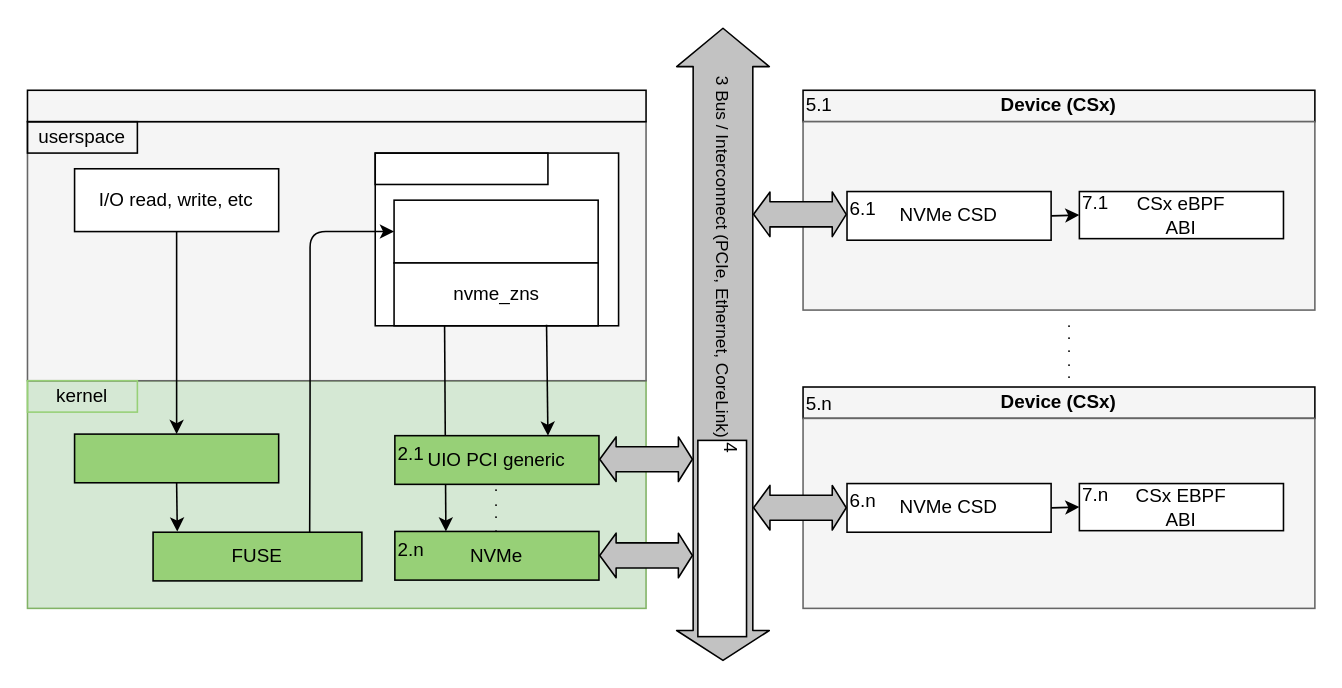
The diagram is 1342 pixels wide and 688 high, and some of its shapes have lost their labels. The shapes that lost their labels are listed below. From the top down, each one's centre as x and y in pixels, then its label:
At point 336,105: "Host".
At point 461,168: "hybrid filesystem".
At point 495,231: "libfuse".
At point 176,458: "VFS".
At point 721,538: "Protocol (NVMe)".
